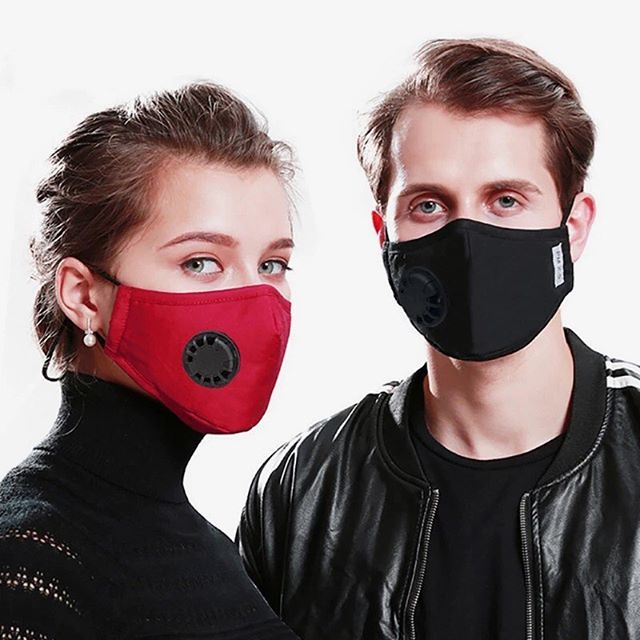homemade: (94, 270, 305, 449), (366, 226, 588, 367)
